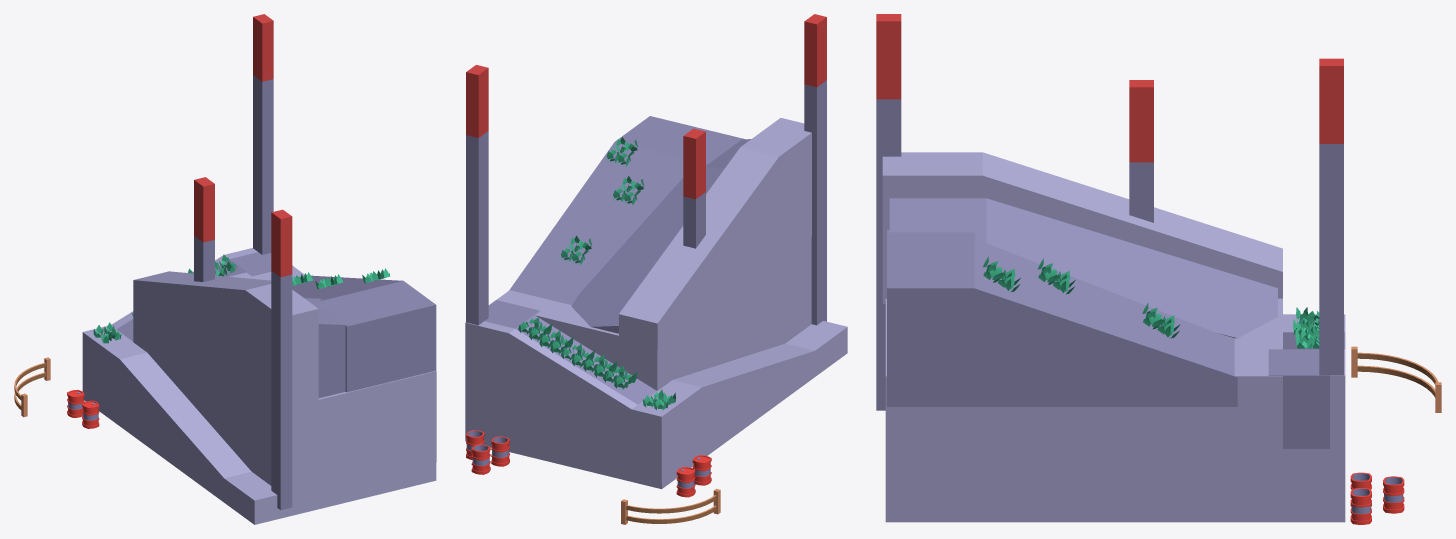
File: trash_incinerator.glb
3 views of the same model, side by side, from view 1: azimuth 30°, elevation 25°; view 2: azimuth 150°, elevation 25°; view 3: azimuth 270°, elevation 25° (orthographic). The views are drawn at different scales.
Parts seen in each view (by area): view 1: mergedBlocks(Clone); view 2: mergedBlocks(Clone); view 3: mergedBlocks(Clone).
Part boxes in pixels (x1,y1,x2,y2): mergedBlocks(Clone): (14, 14, 436, 524); mergedBlocks(Clone): (465, 14, 847, 524); mergedBlocks(Clone): (876, 14, 1441, 524).
Size of the model in its own units: 0.8184 by 1.17 by 1.25.
